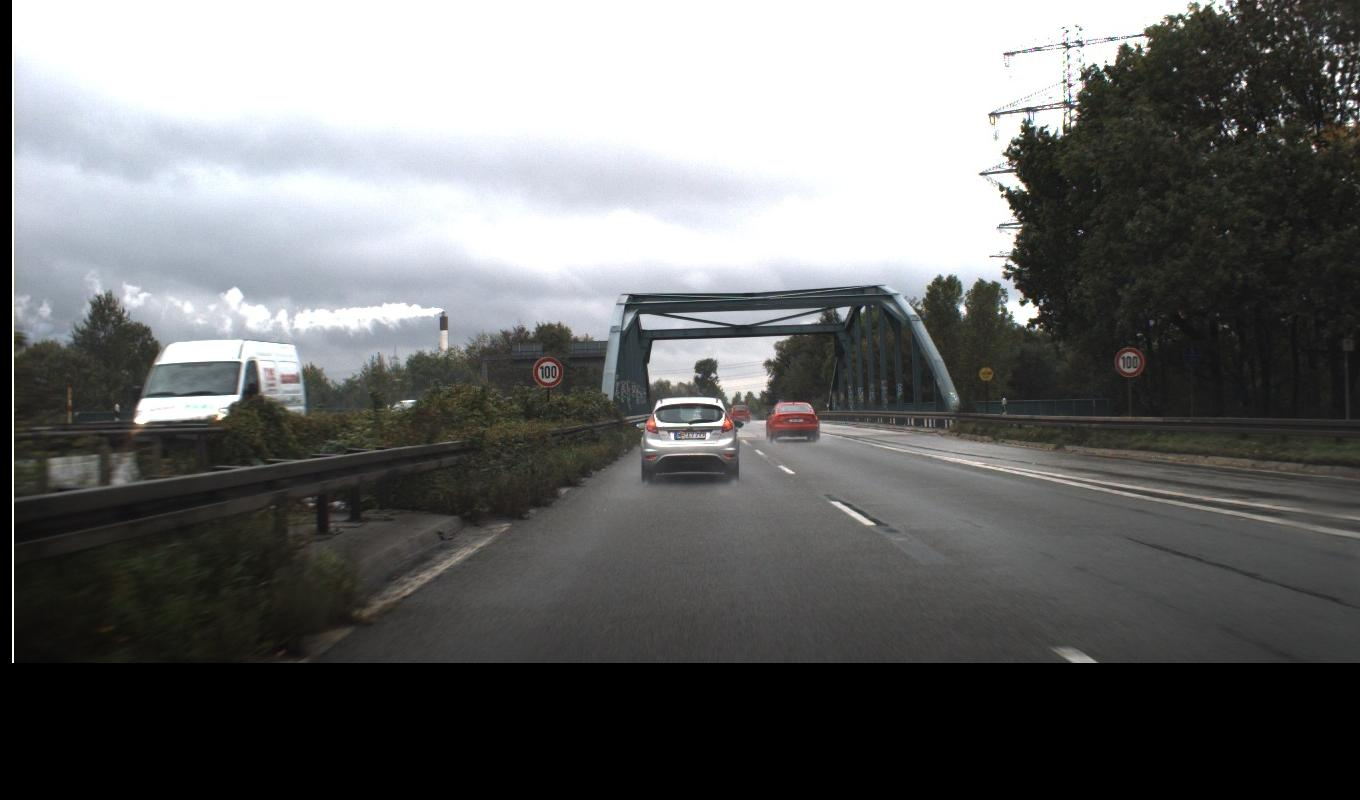speed limit 100: (531, 346, 1145, 387)
